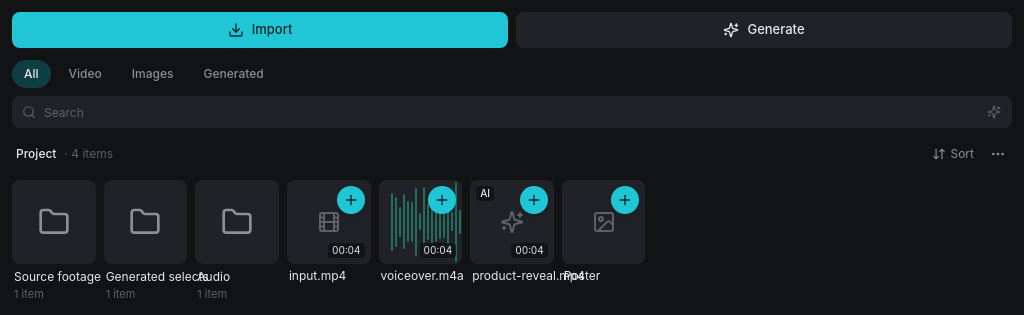
Scenario: MediaPanel folders, media dialogs and handoffs › reveals hidden media by clearing the filters and flashing its tile
The image size is (1024, 315).
What coordinates should you click on to do the following:
click the button "Images"
I would click on:
 (153, 74)
Its box is [120,60,186,88].
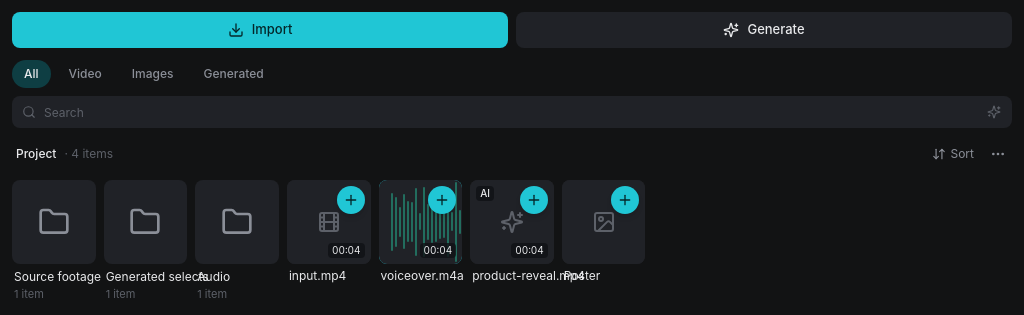
Now the element with class "ring-accent" is shown, box [378,180,462,264]
